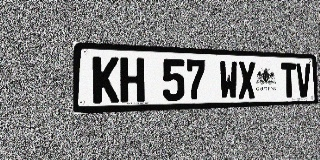5: (163, 59, 185, 101)
7: (185, 59, 206, 101)
H: (120, 57, 145, 103)
K: (93, 56, 119, 103)
T: (281, 63, 297, 98)
V: (296, 63, 311, 97)
W: (219, 61, 238, 100)
X: (238, 61, 256, 99)
